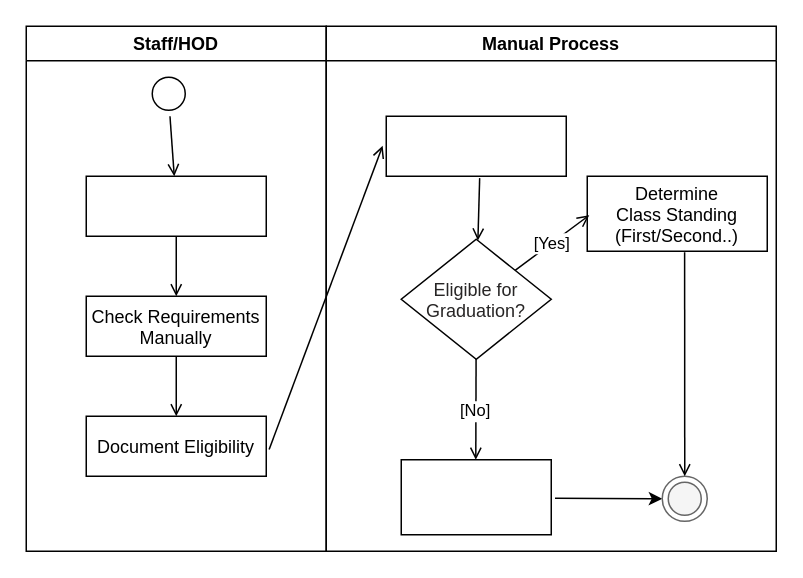
The diagram is 803 pixels wide and 578 high, and some of its shapes have lost their labels. Here are the shapes that lost their labels. From the top down, the centre of each, then its label:
(x=475, y=145): Verify Credits & GPA
(x=175, y=205): Retrieve Student Records
(x=475, y=496): Not Eligible (Incomplete)
